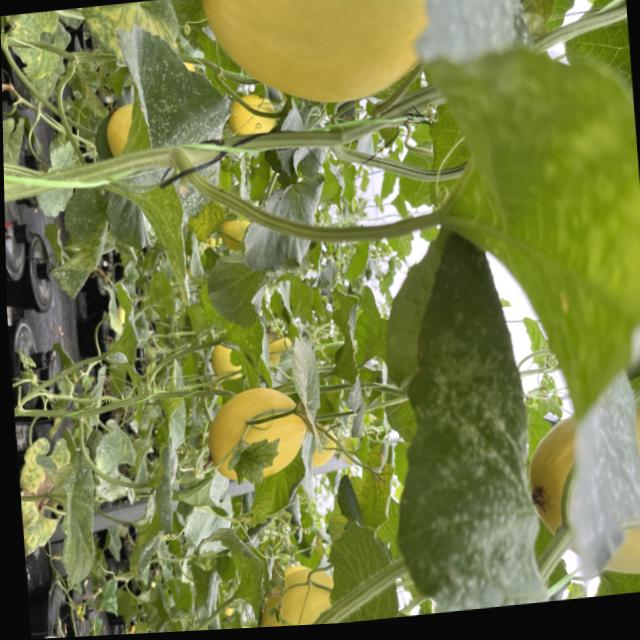alternaria leaf blight: (326, 284, 369, 441), (285, 335, 327, 461), (353, 433, 400, 533)
bacterial wilt: (15, 434, 74, 509)
downy mildew: (80, 0, 182, 74), (2, 10, 65, 86), (20, 488, 62, 557), (3, 114, 30, 181)
healthy: (231, 143, 333, 281), (206, 249, 272, 333)
powdery mildew: (375, 224, 551, 617), (101, 13, 243, 316), (118, 441, 187, 581), (43, 181, 118, 304), (43, 461, 100, 596), (87, 416, 141, 510), (30, 140, 80, 221), (30, 631, 68, 639)
